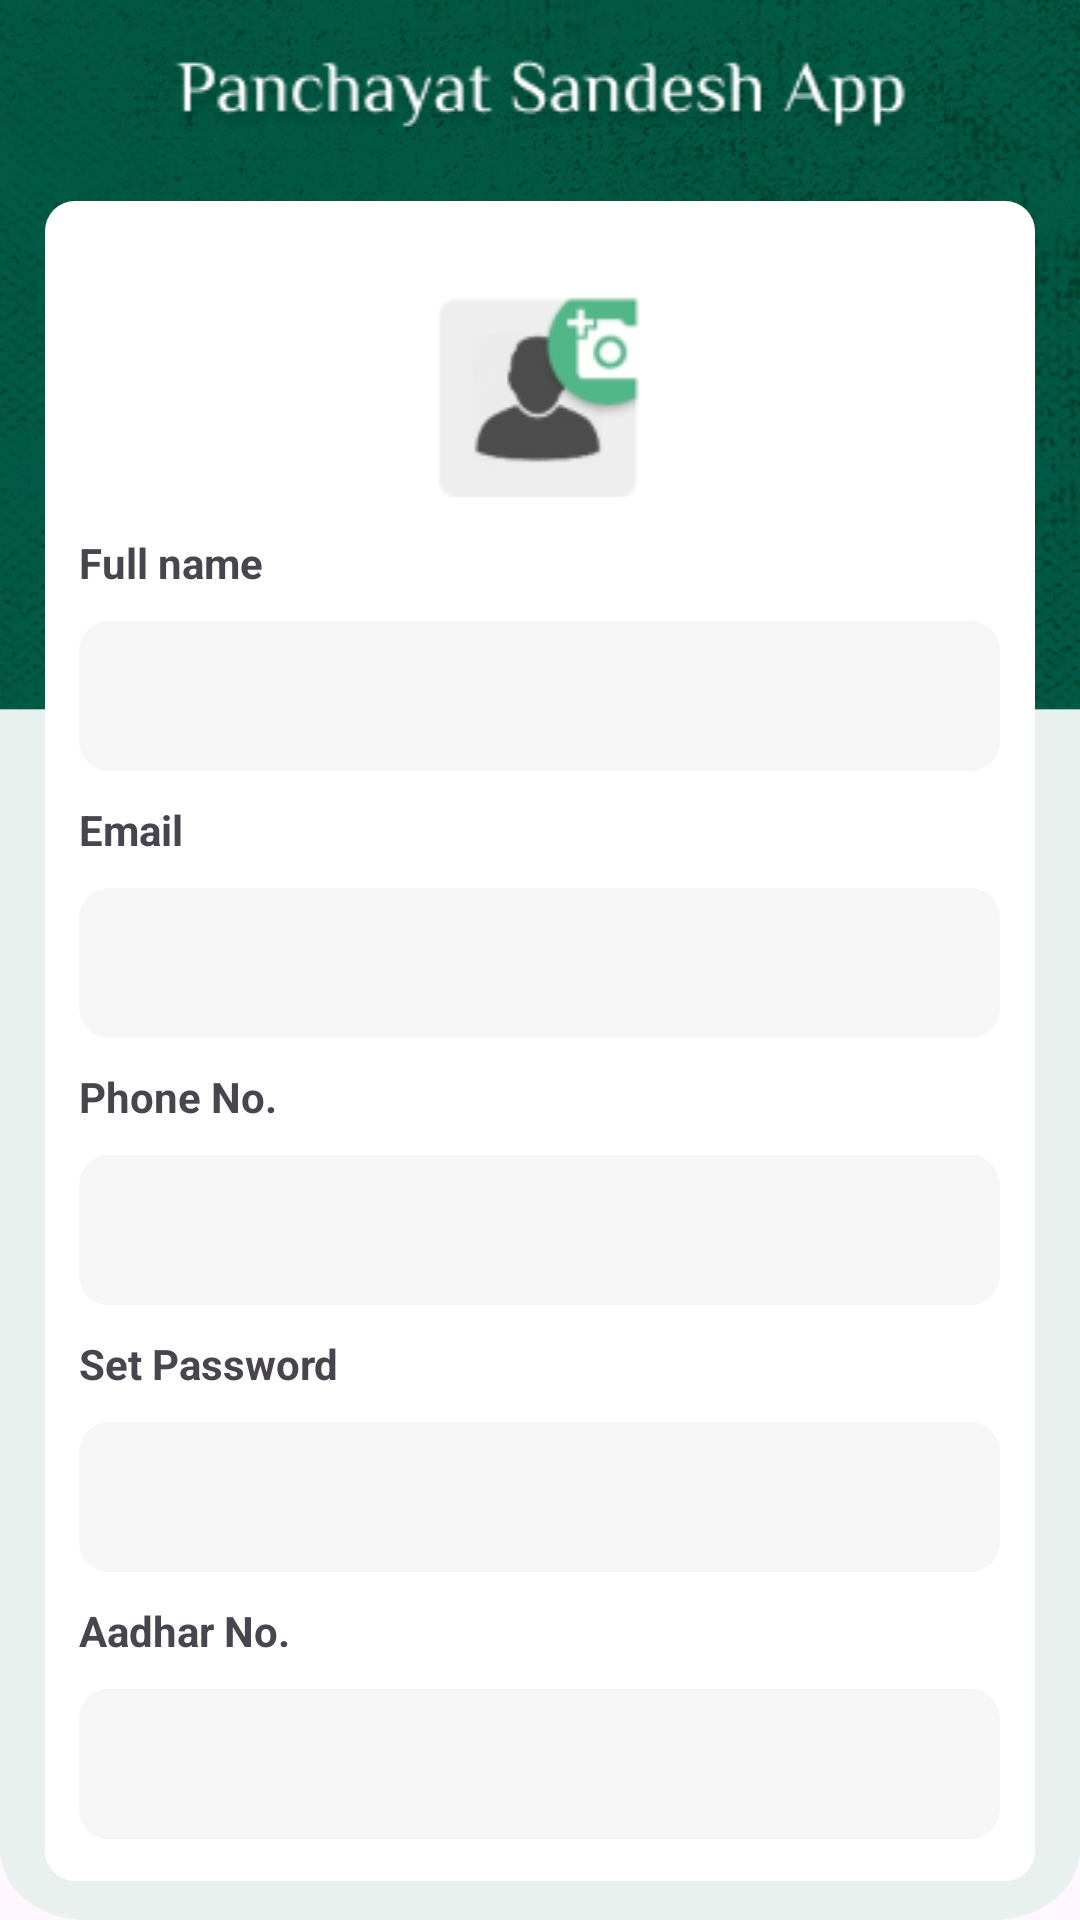

Where to tap for icons on this 1080*1920 app screen, as (x=x, y=y):
userimg: (x=556, y=380)
